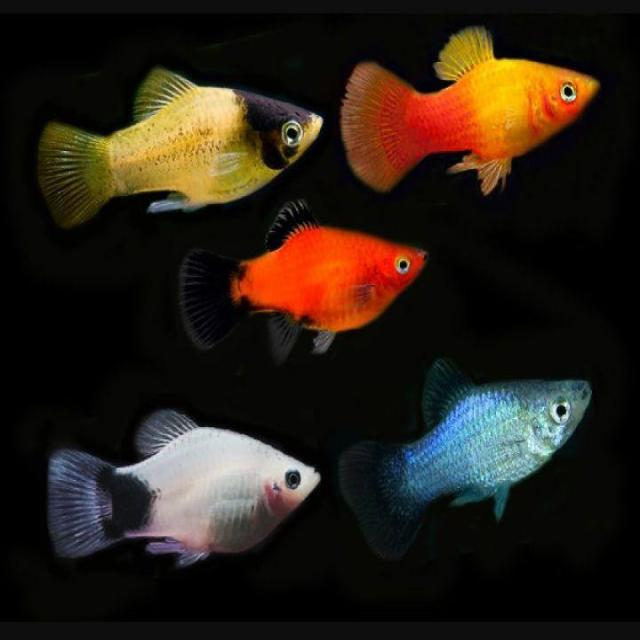PlatyFish: (335, 362, 595, 556), (39, 399, 328, 568), (22, 62, 324, 223), (336, 25, 605, 205), (176, 197, 440, 358)
